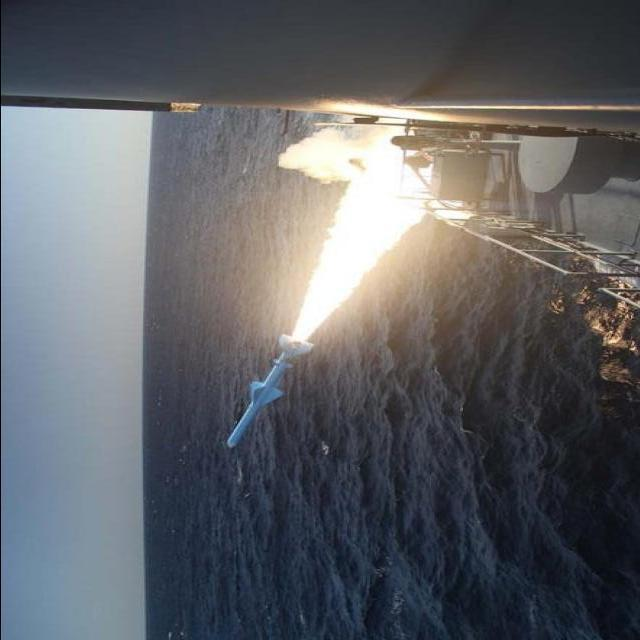missile: (218, 325, 316, 451)
